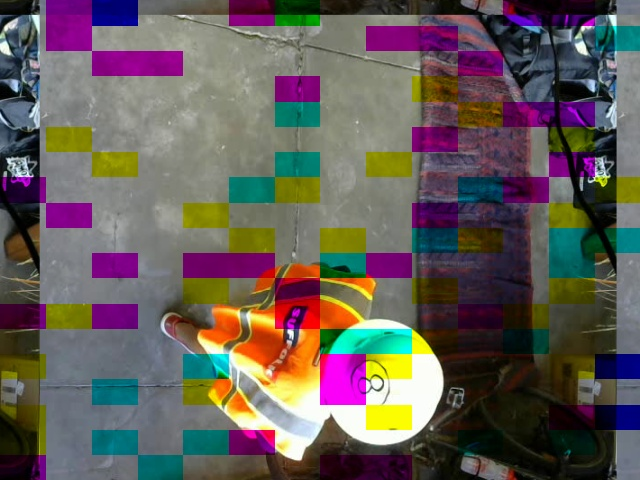eight: (348, 359, 390, 408)
